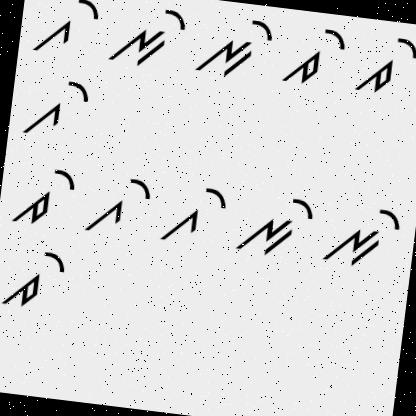gay: (81, 164, 154, 247), (154, 176, 232, 251), (18, 70, 94, 146), (29, 0, 105, 61)
ngay: (319, 196, 405, 276), (236, 186, 318, 264), (105, 0, 187, 77), (192, 11, 276, 84)
tay: (5, 154, 80, 236), (0, 239, 68, 317), (280, 20, 350, 92), (349, 27, 416, 102)
